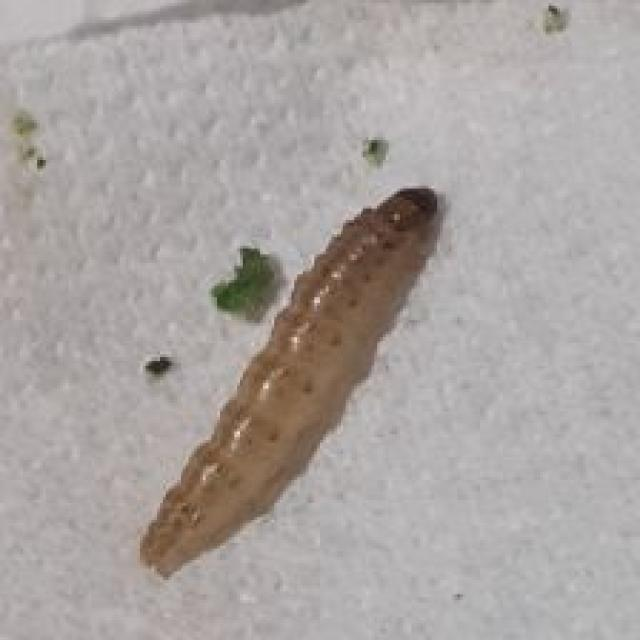white mucus: (117, 184, 446, 579)
